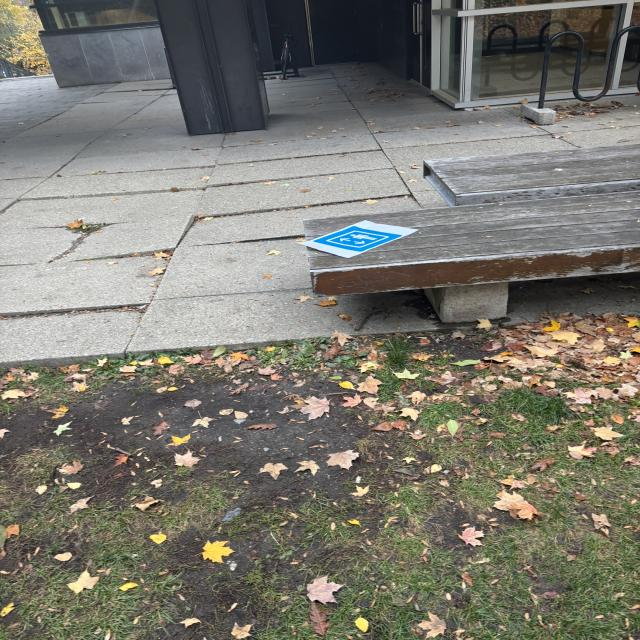elevator: (312, 226, 402, 252)
